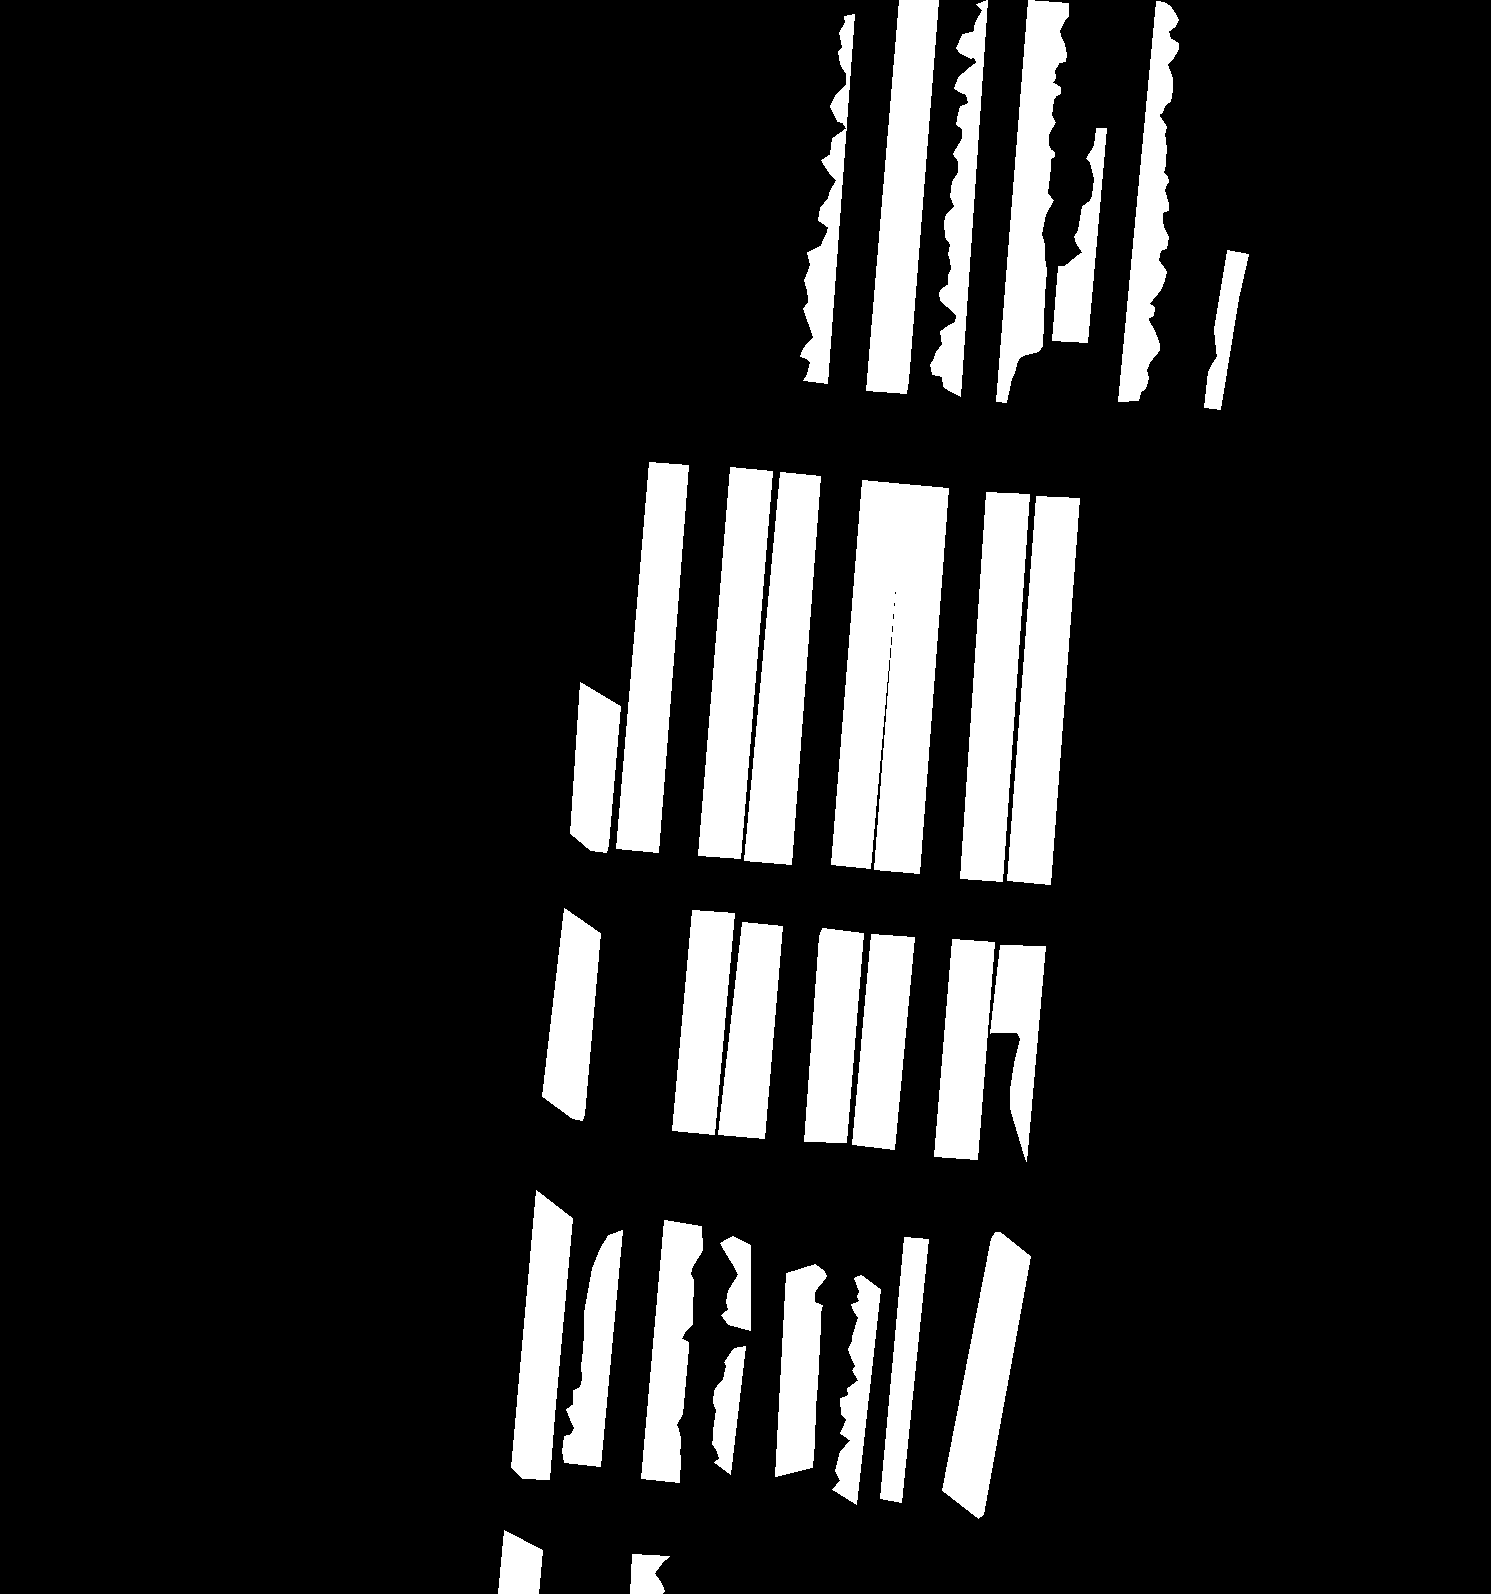parkingspot: (744, 472, 820, 864), (698, 466, 772, 859), (874, 485, 949, 873), (996, 0, 1068, 402), (831, 480, 904, 868), (866, 0, 937, 394), (617, 462, 688, 852), (1008, 496, 1079, 884), (960, 492, 1029, 881), (942, 1233, 1030, 1518), (1118, 1, 1179, 401), (930, 0, 987, 396), (800, 14, 853, 382), (511, 1191, 572, 1479), (640, 1220, 702, 1482), (562, 1230, 622, 1467), (717, 922, 782, 1137), (673, 910, 734, 1135), (852, 934, 914, 1149), (935, 938, 994, 1158), (880, 1237, 928, 1502), (804, 929, 863, 1142), (542, 908, 600, 1121), (989, 945, 1045, 1161), (1052, 127, 1106, 342), (832, 1275, 880, 1504), (775, 1263, 825, 1476), (570, 682, 619, 852), (1204, 249, 1249, 409), (712, 1346, 745, 1474), (497, 1530, 542, 1594), (720, 1235, 750, 1331), (631, 1553, 668, 1594)
